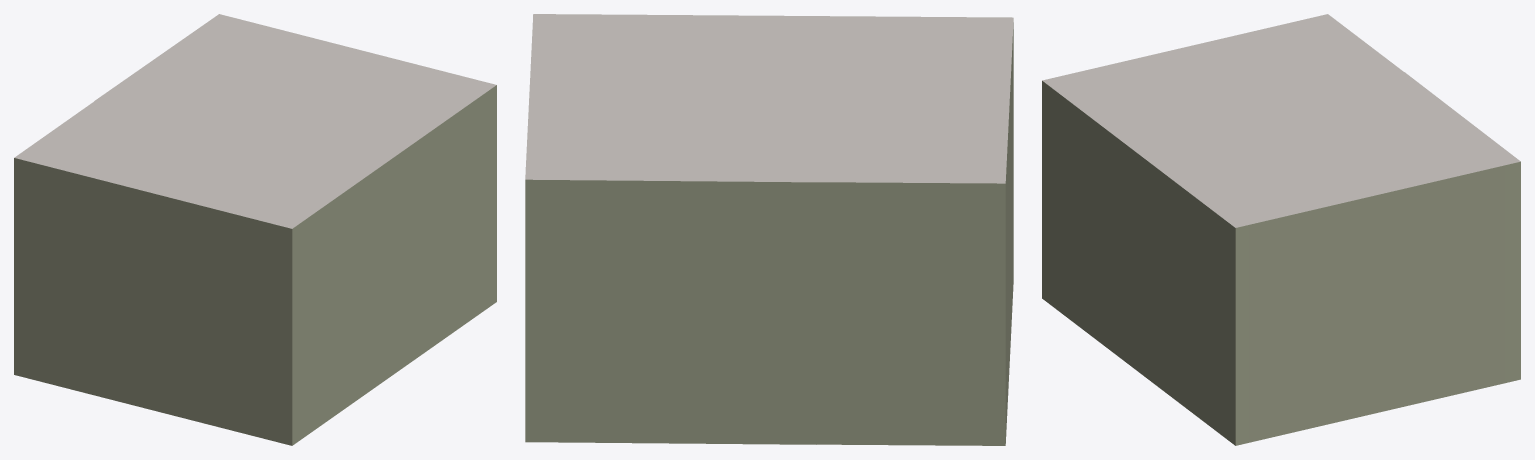
The model's file is nyc-1024709-0.glb.
The picture shows the model from 3 angles, left to right: view 1: azimuth 30°, elevation 25°; view 2: azimuth 150°, elevation 25°; view 3: azimuth 270°, elevation 25°; orthographic projection. The views are drawn at different scales.
Visible parts, largest first — view 1: nyc-1024709-0; view 2: nyc-1024709-0; view 3: nyc-1024709-0.
Boxes of the visible parts, left/top/right/bottom form: nyc-1024709-0: left=14, top=14, right=496, bottom=445; nyc-1024709-0: left=525, top=14, right=1013, bottom=445; nyc-1024709-0: left=1042, top=14, right=1520, bottom=445.
Bounding box in the file's own units: 47.49 × 22.55 × 44.91.
